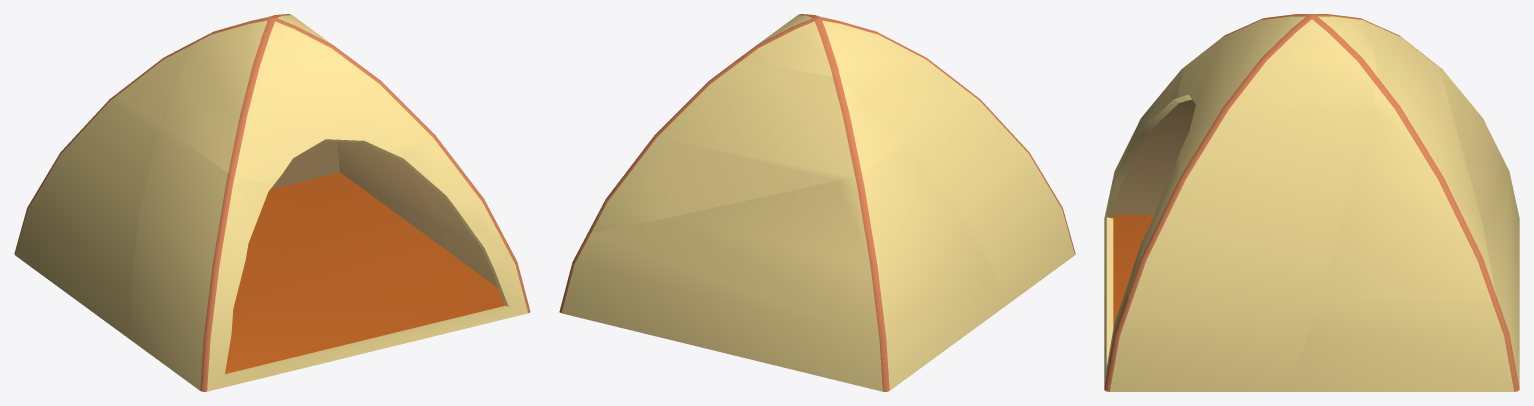
Rendered from Tent_02_cut.fbx.
3 renders of one model, left to right at view 1: azimuth 30°, elevation 25°; view 2: azimuth 150°, elevation 25°; view 3: azimuth 270°, elevation 25°, orthographic. The views are drawn at different scales.
Parts seen in each view (by area): view 1: Tent_02_cut02, Tent_02_cut03, Tent_02_cut01, Tent_02_cut00; view 2: Tent_02_cut03, Tent_02_cut00, Tent_02_cut02, Tent_02_cut01; view 3: Tent_02_cut01, Tent_02_cut00, Tent_02_cut02, Tent_02_cut03.
Part boxes in pixels (x1,y1,x2,y2): Tent_02_cut02: (131, 125, 530, 391); Tent_02_cut03: (14, 93, 443, 341); Tent_02_cut01: (162, 14, 501, 233); Tent_02_cut00: (118, 39, 409, 168); Tent_02_cut03: (559, 142, 1007, 391); Tent_02_cut00: (588, 61, 903, 233); Tent_02_cut02: (904, 93, 1075, 304); Tent_02_cut01: (733, 14, 971, 142); Tent_02_cut01: (1127, 14, 1376, 300); Tent_02_cut00: (1318, 22, 1496, 300); Tent_02_cut02: (1104, 64, 1318, 391); Tent_02_cut03: (1288, 64, 1519, 391).
Size of the model in its own units: 166 by 127 by 166.
